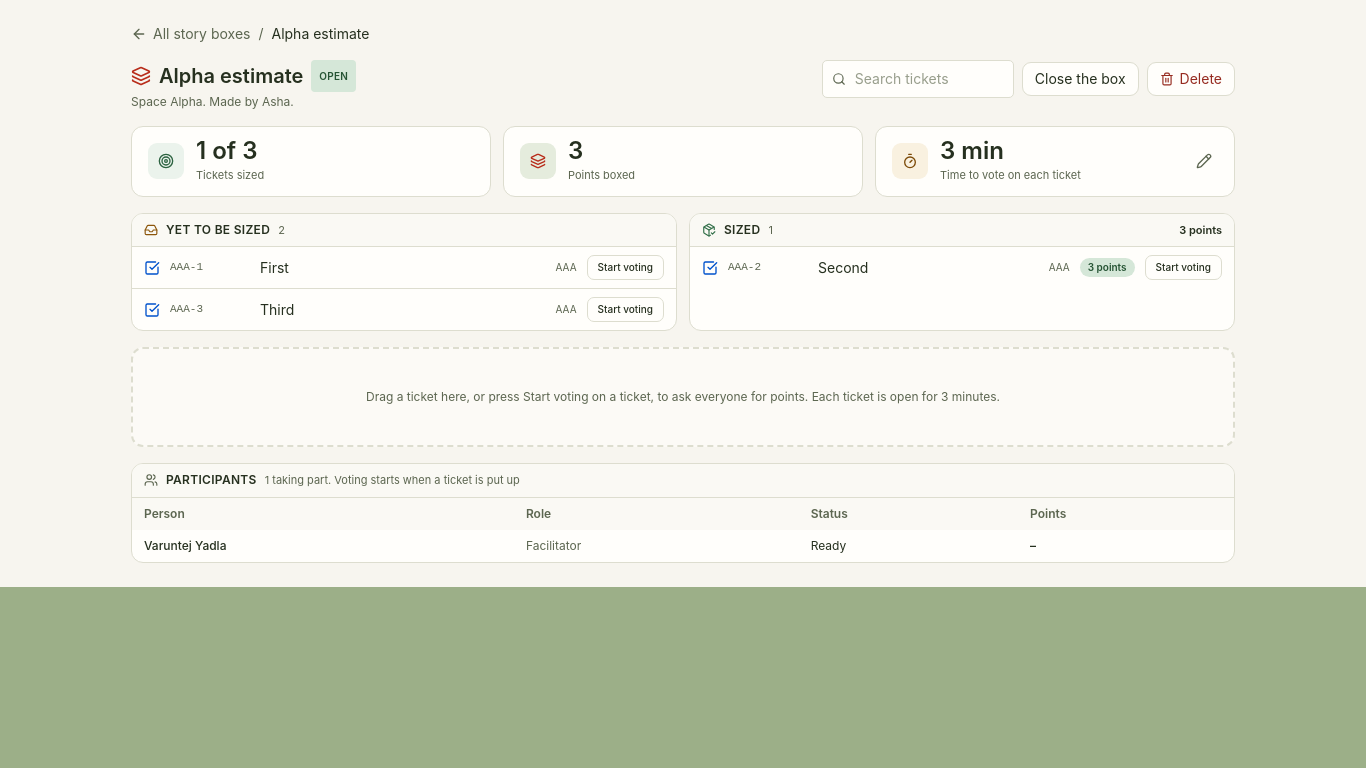
Scenario: changing your mind about a ticket › puts the ticket back at once when nobody has voted, so another ticket can be put up first
Click the button "Start voting" in the row of "AAA-1".
click(625, 268)  # box [587, 255, 664, 280]
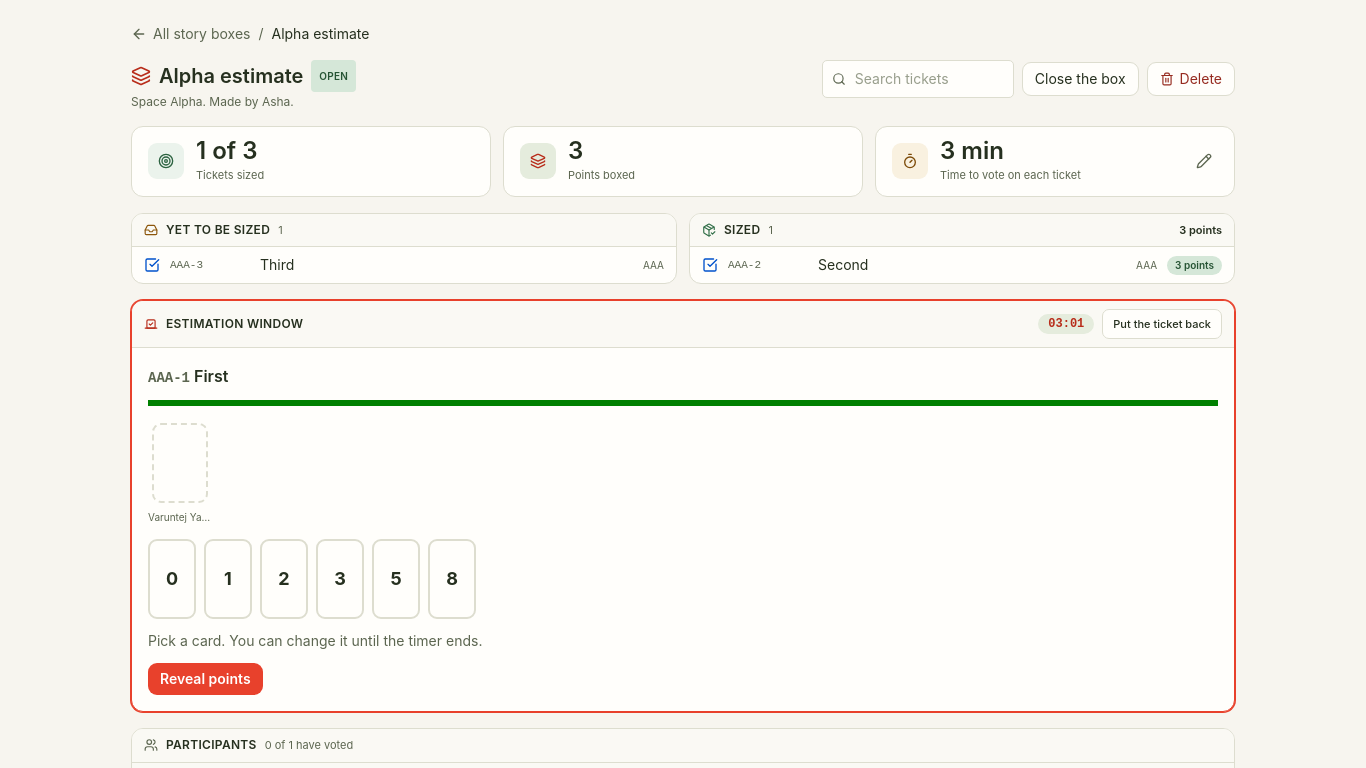
Click the button "Put the ticket back".
click(1162, 324)  # box [1102, 309, 1222, 339]
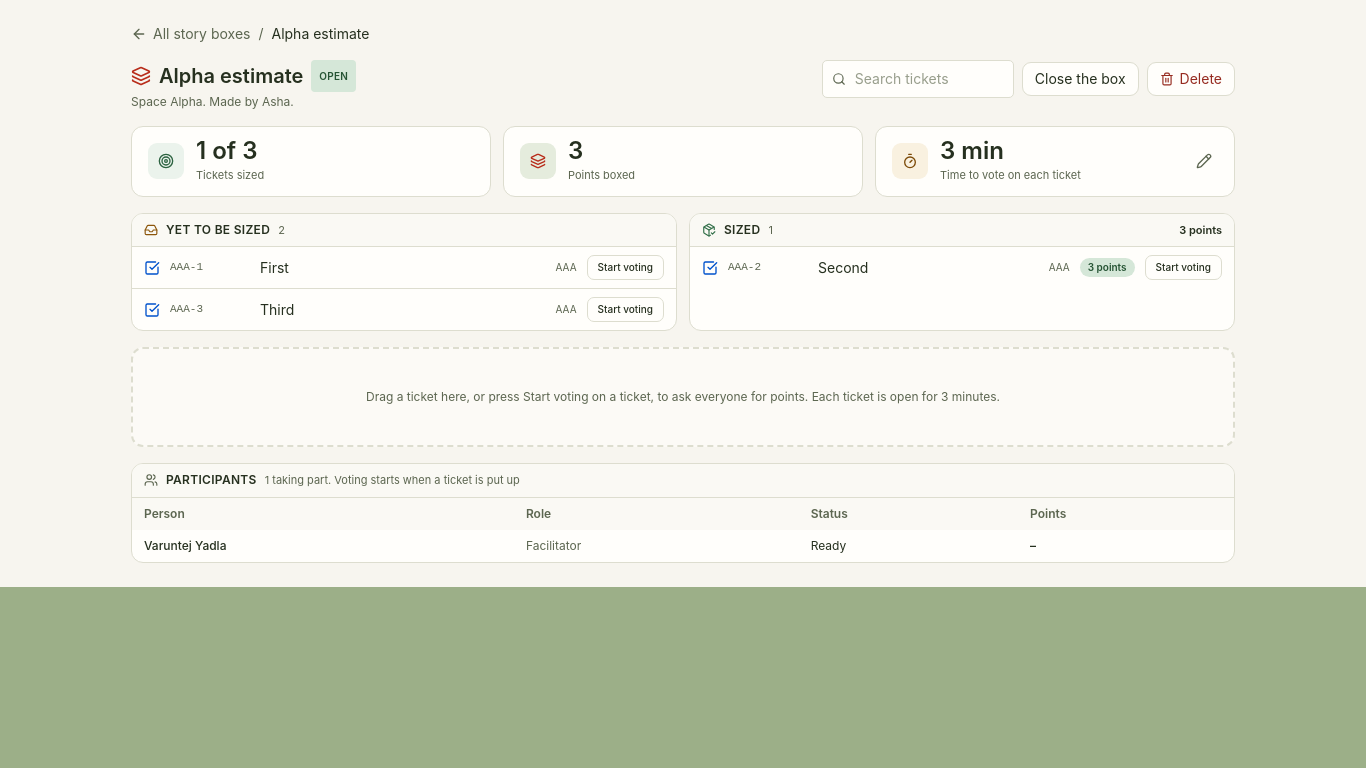
Click the button with aria-label "Start voting on AAA-3".
click(625, 310)  # box [587, 297, 664, 322]
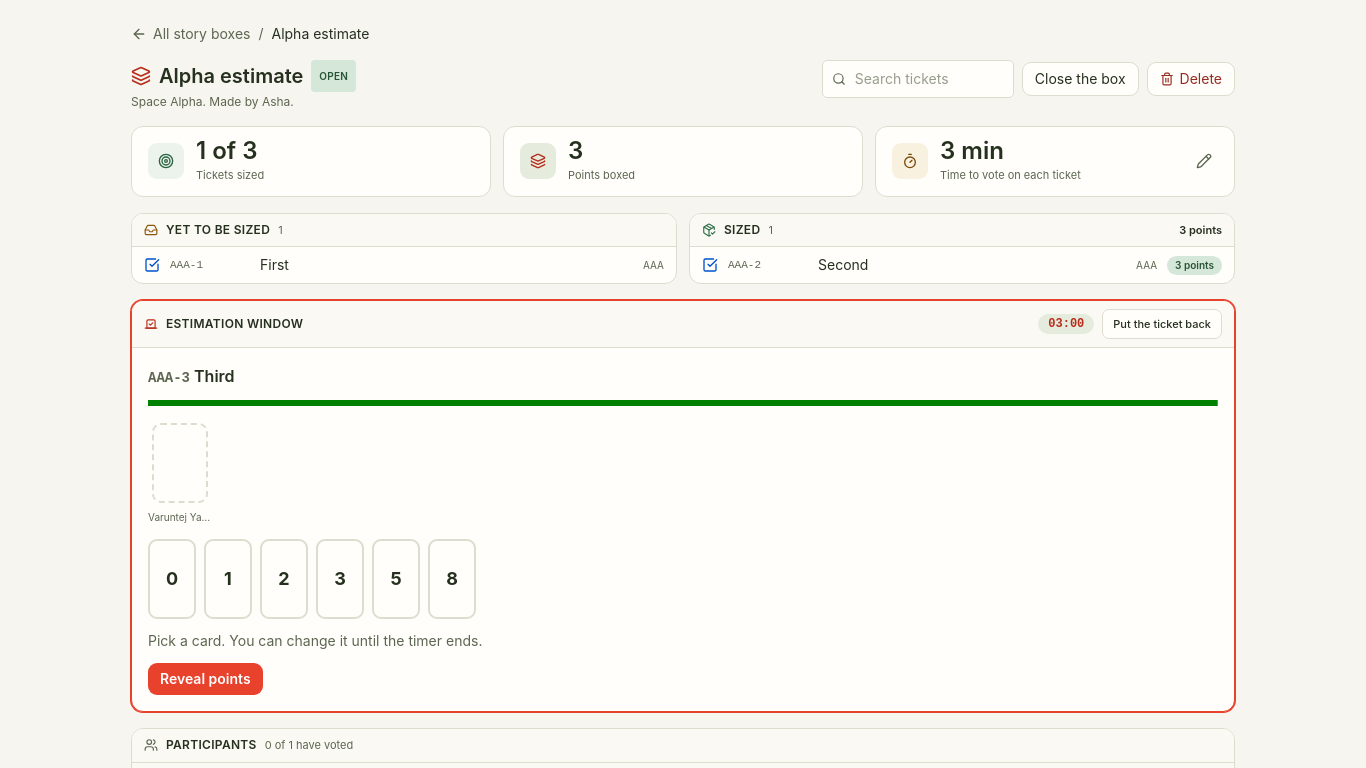
Expected: the element named "Estimation window" shows "AAA-3", [148, 370, 190, 386]
